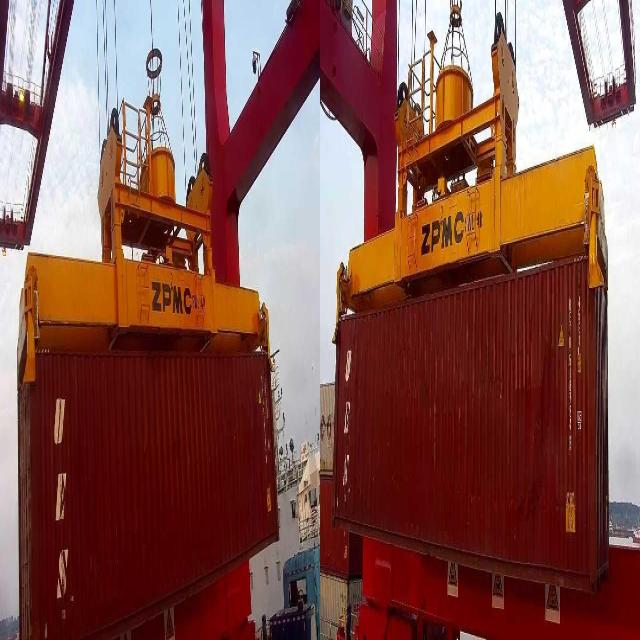dent: (523, 325, 565, 562), (232, 389, 265, 530)
